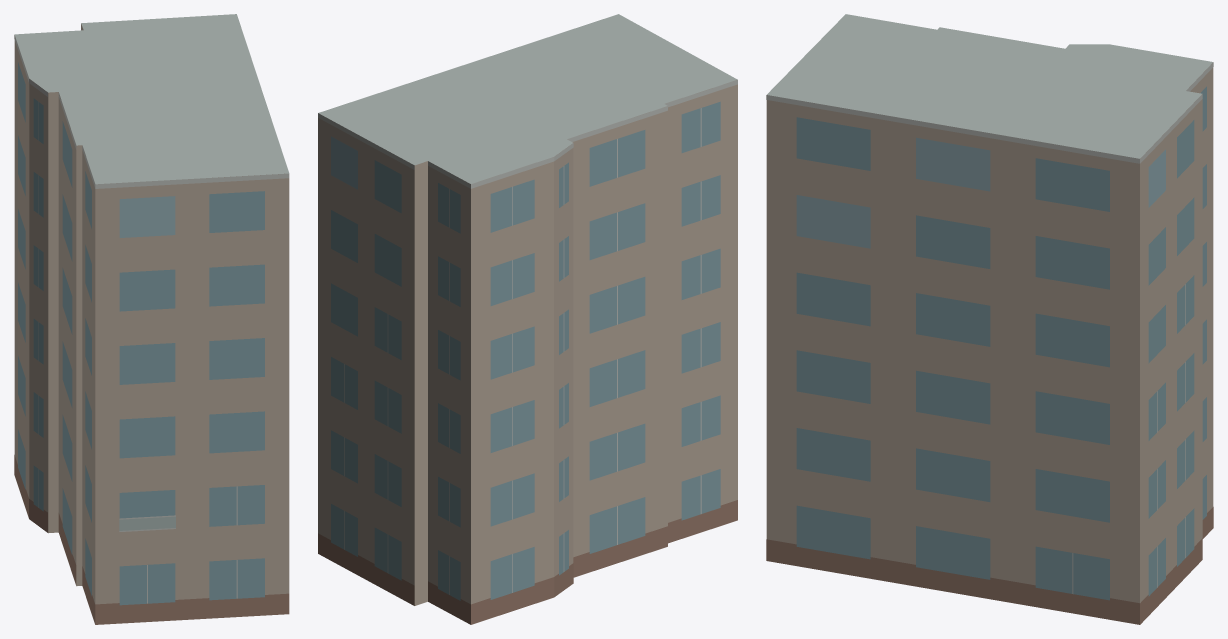
The model's file is survey-upis-32929590.glb.
3 views of the same model, side by side, from view 1: azimuth 30°, elevation 25°; view 2: azimuth 150°, elevation 25°; view 3: azimuth 270°, elevation 25° (orthographic). The views are drawn at different scales.
Visible parts, largest first — view 1: survey-upis-32929590.tmp; view 2: survey-upis-32929590.tmp; view 3: survey-upis-32929590.tmp.
Part boxes in pixels (left/top/right/bottom): survey-upis-32929590.tmp: left=14, top=14, right=289, bottom=624; survey-upis-32929590.tmp: left=318, top=14, right=737, bottom=624; survey-upis-32929590.tmp: left=766, top=14, right=1213, bottom=624.
Bounding box in the file's own units: 15.2 × 22.8 × 19.83.
